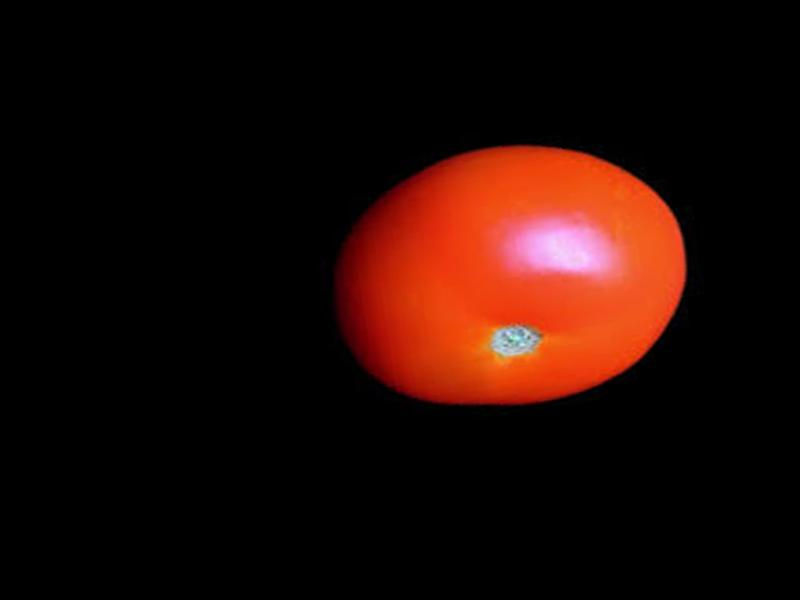Tomato: (315, 121, 704, 429)
